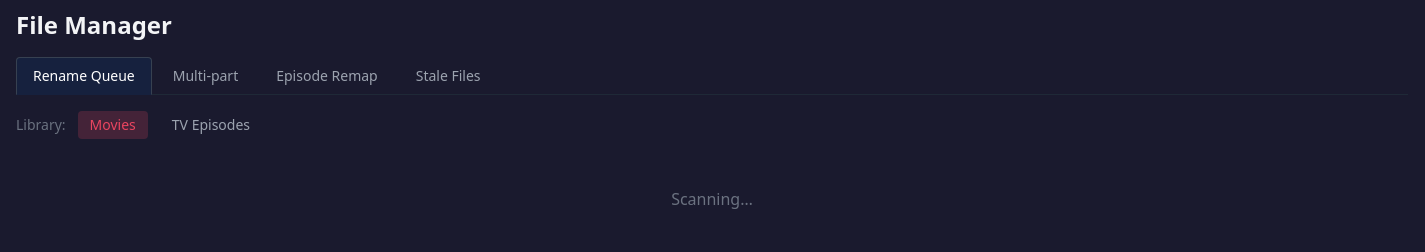
Scenario: FilesPage › Stale Files tab › renders stale file entries
The width and height of the screenshot is (1425, 252).
Click the button "Stale Files".
click(448, 76)  # box [399,57,498,95]
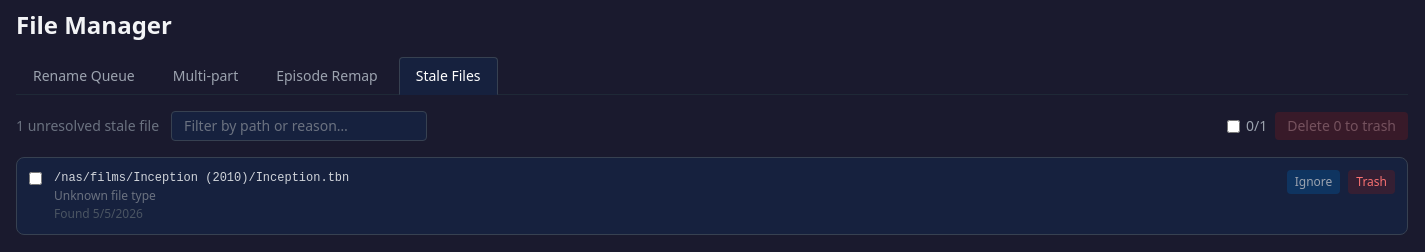
Expected: the text "/nas/films/Inception (2010)/Inception.tbn" is shown, [54,171,349,185]
Expected: the text "Unknown file type" is shown, [54,187,156,204]
